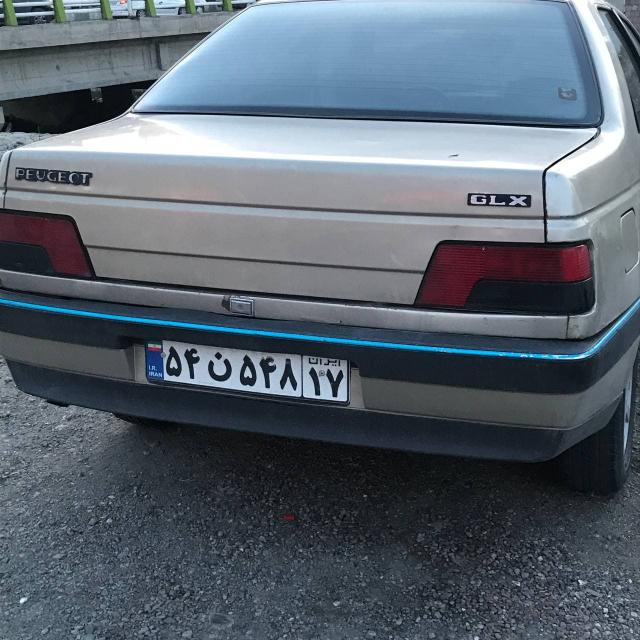Plates: (140, 339, 351, 402)
